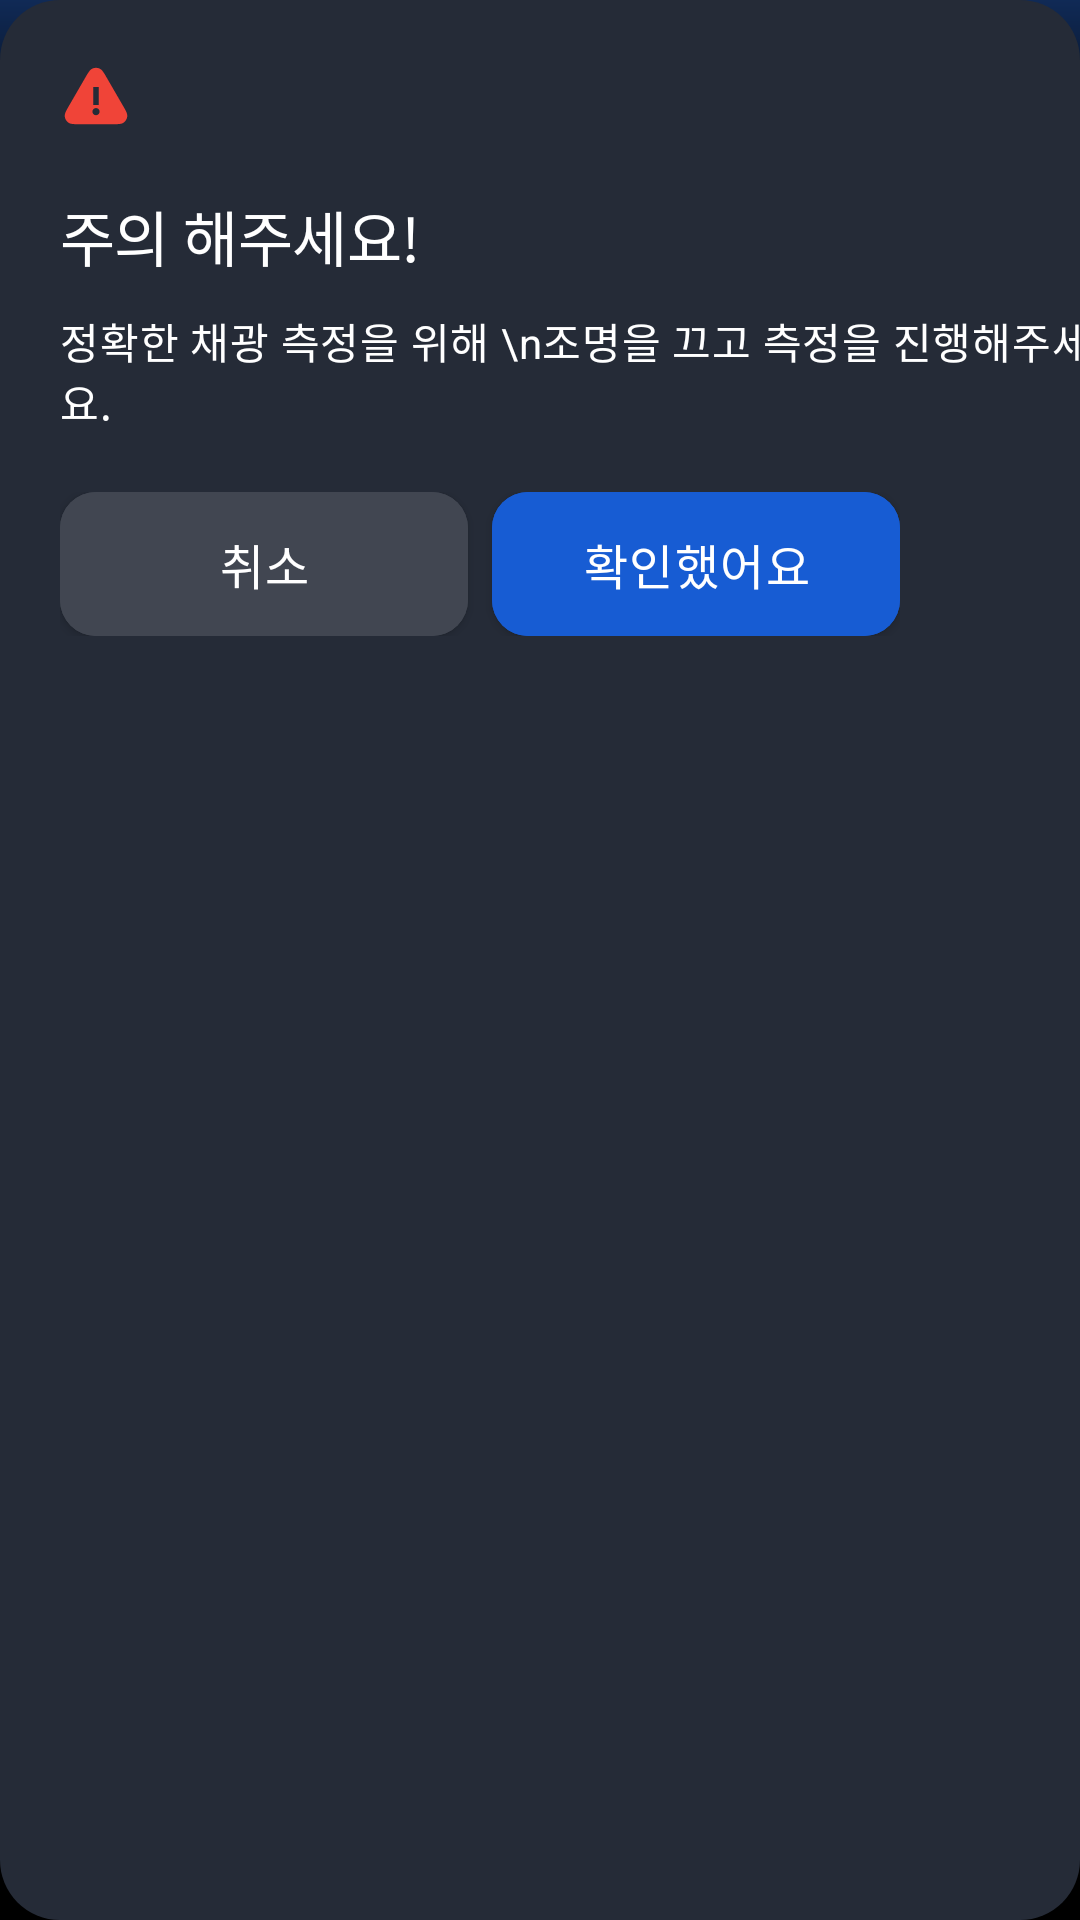

Where icons sit on this 1080 × 1920 app screen, as (x1, y1, x2, y2):
warning: (64, 67, 128, 125)
